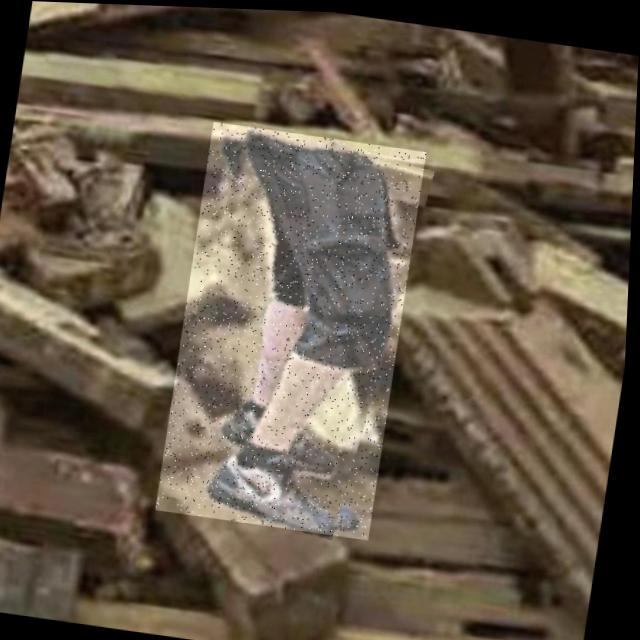Person in Rubble: (159, 119, 428, 538)
